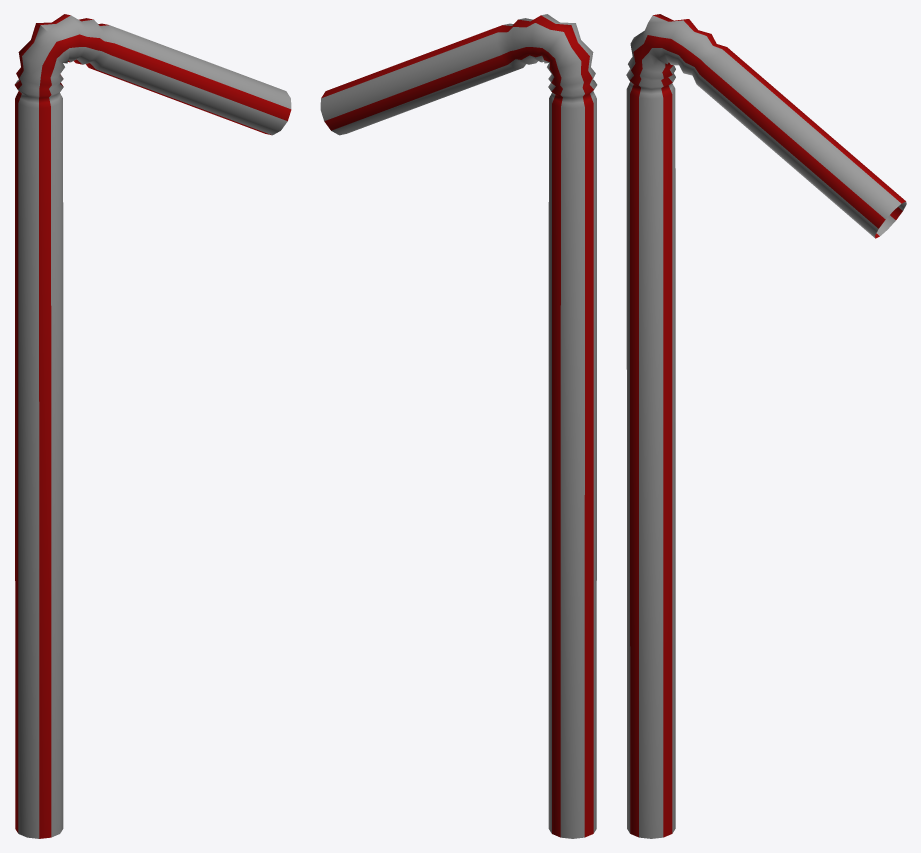
The model's file is tube_plastic.fbx.
The picture shows the model from 3 angles, left to right: view 1: azimuth 30°, elevation 25°; view 2: azimuth 150°, elevation 25°; view 3: azimuth 330°, elevation 25°; orthographic projection.
Parts seen in each view (by area): view 1: Shape001; view 2: Shape001; view 3: Shape001.
Boxes of the visible parts, x1,y1,x2,y2 form: Shape001: (14, 14, 291, 838); Shape001: (320, 14, 597, 838); Shape001: (626, 14, 906, 838).
Size of the model in its own units: 64.48 by 185 by 10.27.
